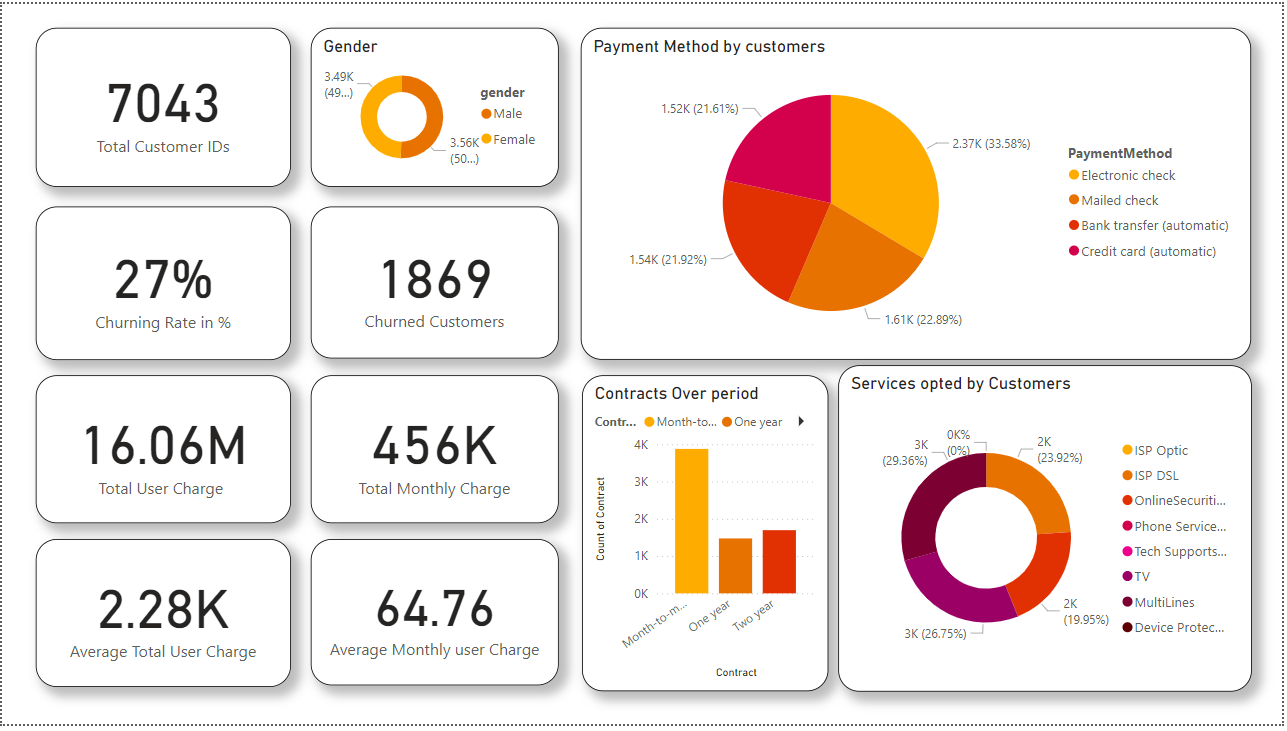

The page's visual inventory and layout, read from the dashboard file:
{"tool":"powerbi","page":{"name":"Summary Dashboard","canvas":[1280,720],"ordinal":0},"visuals":[{"type":"card","fields":{"Values":["01 Churn-Dataset.Total Customer IDs"]},"box":[33.3,23.2,254.9,159.3],"z":0},{"type":"donutChart","title":"Gender ","fields":{"Category":["01 Churn-Dataset.gender"],"Y":["CountNonNull(01 Churn-Dataset.gender)"]},"box":[308.5,23.2,247.7,159.3],"z":1000},{"type":"pieChart","title":" Payment Method by customers","fields":{"Category":["01 Churn-Dataset.PaymentMethod"],"Y":["CountNonNull(01 Churn-Dataset.PaymentMethod)"]},"box":[579.3,23.2,670.6,331.7],"z":2000},{"type":"card","fields":{"Values":["01 Churn-Dataset.Churning Rate in %"]},"box":[33.3,202.8,254.9,153.5],"z":3000},{"type":"card","fields":{"Values":["01 Churn-Dataset.Churned"]},"box":[308.5,202.8,247.7,152.1],"z":4000},{"type":"columnChart","title":"Contracts Over period","fields":{"Series":["01 Churn-Dataset.Contract"],"Category":["01 Churn-Dataset.Contract"],"Y":["CountNonNull(01 Churn-Dataset.Contract)"]},"box":[580,371.2,246.5,316.1],"z":5000},{"type":"card","fields":{"Values":["Sum(01 Churn-Dataset.TotalCharges)"]},"box":[33.3,370.8,254.9,147.7],"z":6000},{"type":"card","fields":{"Values":["Sum(01 Churn-Dataset.MonthlyCharges)"]},"box":[308.5,370.8,247.7,147.7],"z":7000},{"type":"card","fields":{"Values":["Avg(01 Churn-Dataset.TotalCharges)"]},"box":[33.3,534.4,254.9,147.7],"z":8000},{"type":"card","fields":{"Values":["Avg(01 Churn-Dataset.MonthlyCharges)"]},"box":[308.8,535,247.9,146.4],"z":9000},{"type":"donutChart","title":"Services opted by Customers","fields":{"Y":["01 Churn-Dataset.ISP Optic","01 Churn-Dataset.ISP DSL","01 Churn-Dataset.OnlineSecurities","01 Churn-Dataset.Phone Service","01 Churn-Dataset.Tech Supports","01 Churn-Dataset.TV","01 Churn-Dataset.MultiLines","01 Churn-Dataset.DeviceProtected"]},"box":[836.6,361,413.2,326.2],"z":11000}]}

Visuals, with their boxes in screenshot pixels (x1, y1, x2, y2), scaled from the page's 1280x720 canvas onto the 1287x731 screenshot:
card - 01 Churn-Dataset.Total Customer IDs: bbox(33, 24, 290, 185)
"Gender " donutChart: bbox(310, 24, 559, 185)
" Payment Method by customers" pieChart: bbox(582, 24, 1257, 360)
card - 01 Churn-Dataset.Churning Rate in %: bbox(33, 206, 290, 362)
card - 01 Churn-Dataset.Churned: bbox(310, 206, 559, 360)
"Contracts Over period" columnChart: bbox(583, 377, 831, 698)
card - Sum(01 Churn-Dataset.TotalCharges): bbox(33, 376, 290, 526)
card - Sum(01 Churn-Dataset.MonthlyCharges): bbox(310, 376, 559, 526)
card - Avg(01 Churn-Dataset.TotalCharges): bbox(33, 543, 290, 693)
card - Avg(01 Churn-Dataset.MonthlyCharges): bbox(310, 543, 560, 692)
"Services opted by Customers" donutChart: bbox(841, 367, 1257, 698)
